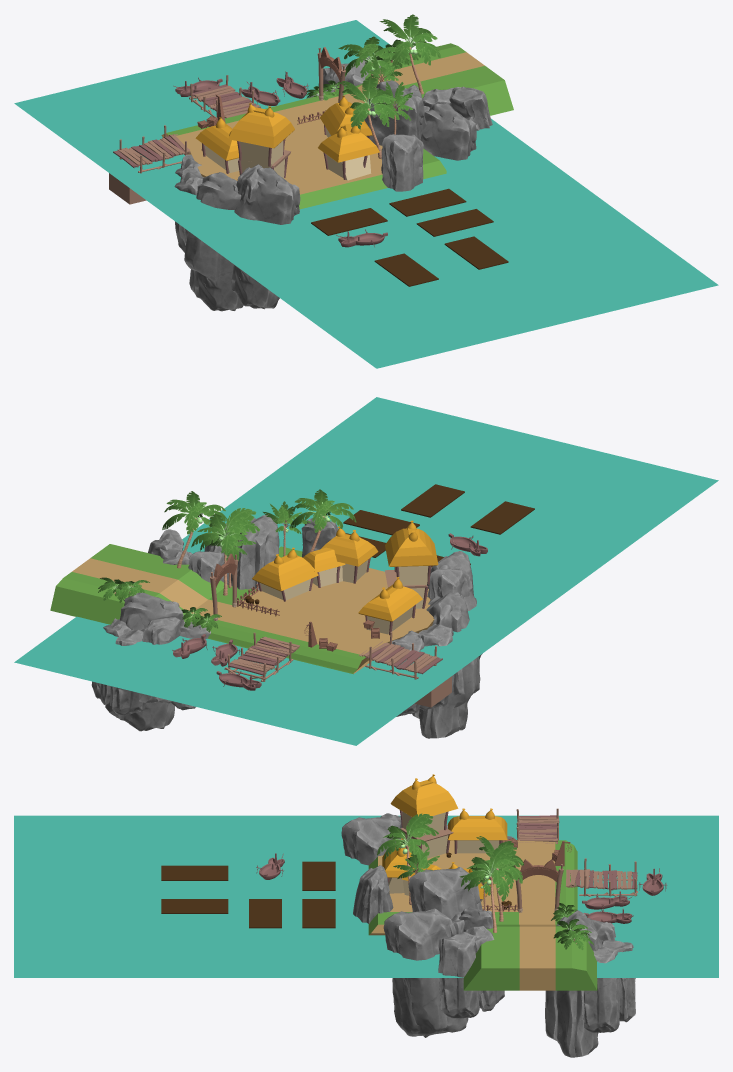
Rendered from Cattac_Blocking_BeginningLvl1.fbx.
3 renders of one model, top to bottom at view 1: azimuth 30°, elevation 25°; view 2: azimuth 150°, elevation 25°; view 3: azimuth 270°, elevation 25°, orthographic. The views are drawn at different scales.
Visible parts, largest first — view 1: Plane, Cube.003, Large_rock_low__1_.004, Cube.002, Large_rock_low__1_.003, Large_rock_low__1_.001, Large_rock_low__3_.003, Large_rock_low__1_, palm02basecolor.002, palm02basecolor, Cube.016, Cube.027 (+16 smaller); view 2: Plane, Cube.003, Cube.002, Large_rock_low__1_.004, Large_rock_low__1_.002, Large_rock_low__1_, palmtree02_basecolor.001, Cube.016, Cube.022, Cube.011, palm02basecolor, palm02basecolor.002 (+19 smaller); view 3: Plane, Cube.002, Cube.003, Large_rock_low__1_.001, Large_rock_low__1_.002, Large_rock_low__2_.001, Large_rock_low__1_, Large_rock_low__2_.004, Large_rock_low__1_.003, palm02basecolor, Large_rock_low__3_.003, Cube.016 (+17 smaller).
Part boxes in pixels (x1=…): Plane: x1=14, y1=20, x2=718, y2=368; Cube.003: x1=161, y1=92, x2=446, y2=209; Large_rock_low__1_.004: x1=184, y1=172, x2=243, y2=311; Cube.002: x1=343, y1=43, x2=513, y2=115; Large_rock_low__1_.003: x1=230, y1=167, x2=300, y2=309; Large_rock_low__1_.001: x1=420, y1=103, x2=476, y2=160; Large_rock_low__3_.003: x1=381, y1=134, x2=423, y2=191; Large_rock_low__1_: x1=364, y1=80, x2=426, y2=145; palm02basecolor.002: x1=338, y1=76, x2=399, y2=158; palm02basecolor: x1=379, y1=14, x2=441, y2=94; Cube.016: x1=228, y1=107, x2=294, y2=148; Cube.027: x1=113, y1=134, x2=190, y2=168; Plane: x1=14, y1=397, x2=718, y2=745; Cube.003: x1=184, y1=546, x2=434, y2=674; Cube.002: x1=50, y1=544, x2=227, y2=624; Large_rock_low__1_.004: x1=412, y1=592, x2=479, y2=738; Large_rock_low__1_.002: x1=105, y1=592, x2=184, y2=731; Large_rock_low__1_: x1=227, y1=514, x2=279, y2=589; palmtree02_basecolor.001: x1=191, y1=508, x2=259, y2=560; Cube.016: x1=385, y1=528, x2=438, y2=566; Cube.022: x1=228, y1=636, x2=299, y2=675; Cube.011: x1=252, y1=555, x2=318, y2=591; palm02basecolor: x1=162, y1=491, x2=227, y2=568; palm02basecolor.002: x1=290, y1=489, x2=356, y2=552; Plane: x1=14, y1=815, x2=718, y2=977; Cube.002: x1=463, y1=924, x2=597, y2=990; Cube.003: x1=368, y1=838, x2=577, y2=935; Large_rock_low__1_.001: x1=383, y1=908, x2=468, y2=1037; Large_rock_low__1_.002: x1=545, y1=910, x2=602, y2=1057; Large_rock_low__2_.001: x1=438, y1=932, x2=479, y2=1018; Large_rock_low__1_: x1=408, y1=867, x2=482, y2=919; Large_rock_low__2_.004: x1=583, y1=946, x2=620, y2=1032; Large_rock_low__1_.003: x1=341, y1=814, x2=401, y2=865; palm02basecolor: x1=461, y1=844, x2=522, y2=932; Large_rock_low__3_.003: x1=353, y1=865, x2=393, y2=923; Cube.016: x1=390, y1=780, x2=458, y2=817.
Size of the model in its own units: 28428 by 15445 by 48441.
